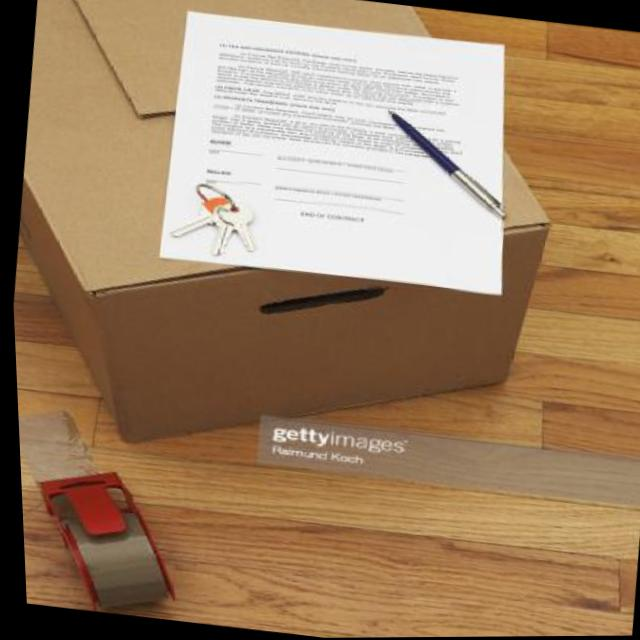box: (0, 0, 595, 508)
